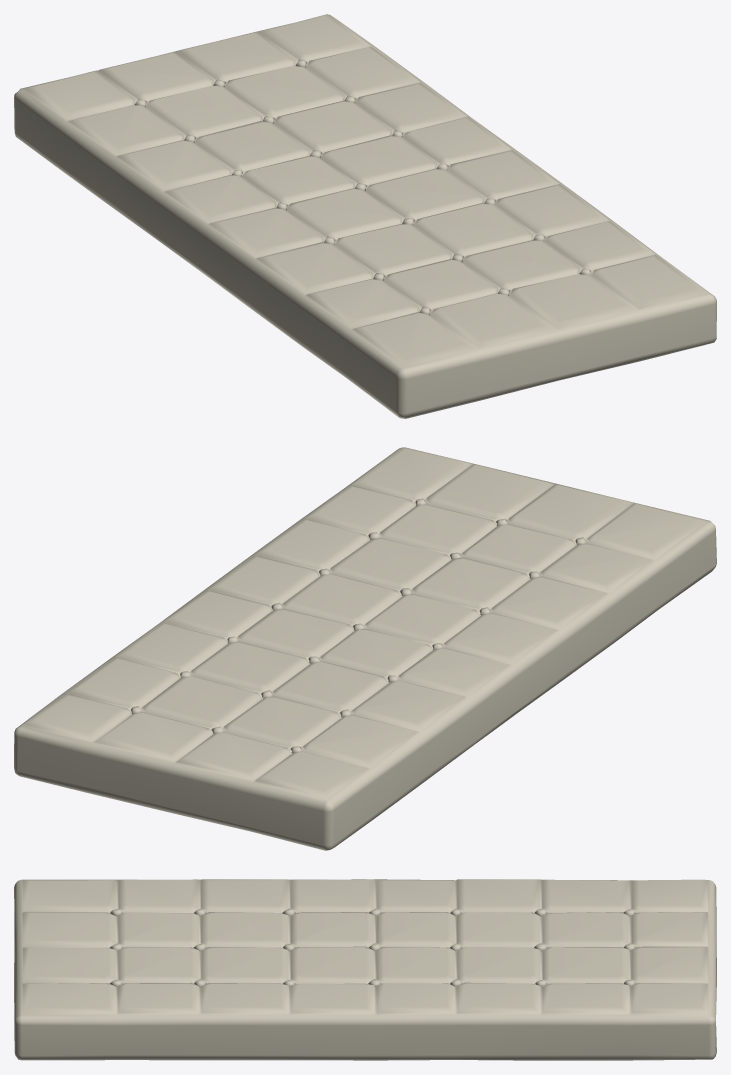
Rendered from A11_Matress.fbx.
The picture shows the model from 3 angles, top to bottom: view 1: azimuth 30°, elevation 25°; view 2: azimuth 150°, elevation 25°; view 3: azimuth 270°, elevation 25°; orthographic projection. The views are drawn at different scales.
Parts seen in each view (by area): view 1: pCube37; view 2: pCube37; view 3: pCube37.
Boxes of the visible parts, x1,y1,x2,y2 form: pCube37: (14, 14, 716, 418); pCube37: (14, 447, 716, 850); pCube37: (14, 879, 716, 1060).
Size of the model in its own units: 0.9068 by 0.1484 by 1.91.
